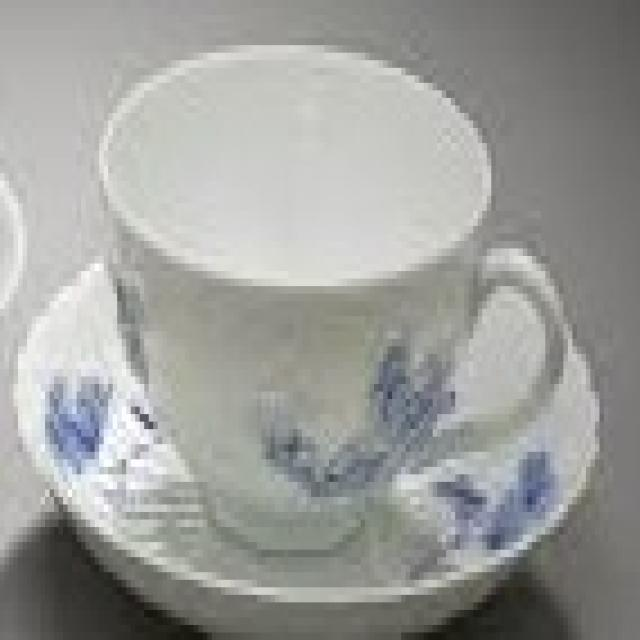taza: (88, 31, 576, 554)
